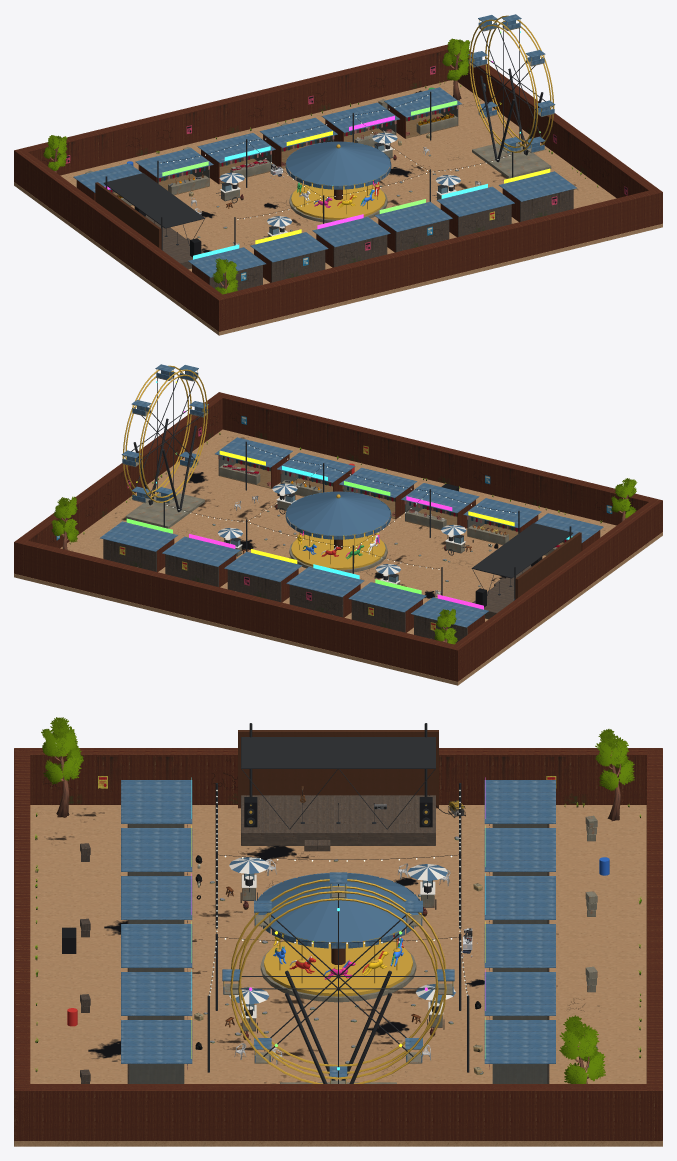
The model's file is pasar.glb.
3 views of the same model, one above another, from view 1: azimuth 30°, elevation 25°; view 2: azimuth 150°, elevation 25°; view 3: azimuth 270°, elevation 25° (orthographic). The views are drawn at different scales.
Parts seen in each view (by area): view 1: statis, putar_komidi, putar_bianglala, CommonTree_3.001, CommonTree_3, CommonTree_3.002; view 2: statis, putar_komidi, putar_bianglala, CommonTree_3.001, CommonTree_3, CommonTree_3.002; view 3: statis, putar_komidi, putar_bianglala, CommonTree_3, CommonTree_3.001, CommonTree_3.002.
Part boxes in pixels (x1,y1,x2,y2): statis: [14, 44, 662, 335]; putar_komidi: [285, 141, 391, 219]; putar_bianglala: [468, 14, 555, 153]; CommonTree_3.001: [442, 38, 470, 100]; CommonTree_3: [212, 258, 238, 294]; CommonTree_3.002: [43, 135, 67, 172]; statis: [14, 392, 662, 685]; putar_komidi: [285, 491, 391, 569]; putar_bianglala: [121, 364, 208, 503]; CommonTree_3.001: [51, 496, 79, 549]; CommonTree_3: [611, 478, 637, 521]; CommonTree_3.002: [434, 608, 457, 644]; statis: [14, 723, 662, 1146]; putar_komidi: [257, 873, 419, 996]; putar_bianglala: [222, 872, 454, 1083]; CommonTree_3: [41, 717, 83, 817]; CommonTree_3.001: [559, 1015, 605, 1083]; CommonTree_3.002: [595, 729, 634, 821].
Size of the model in its own units: 50 by 15.74 by 40.
85 materials, 64 textured.
